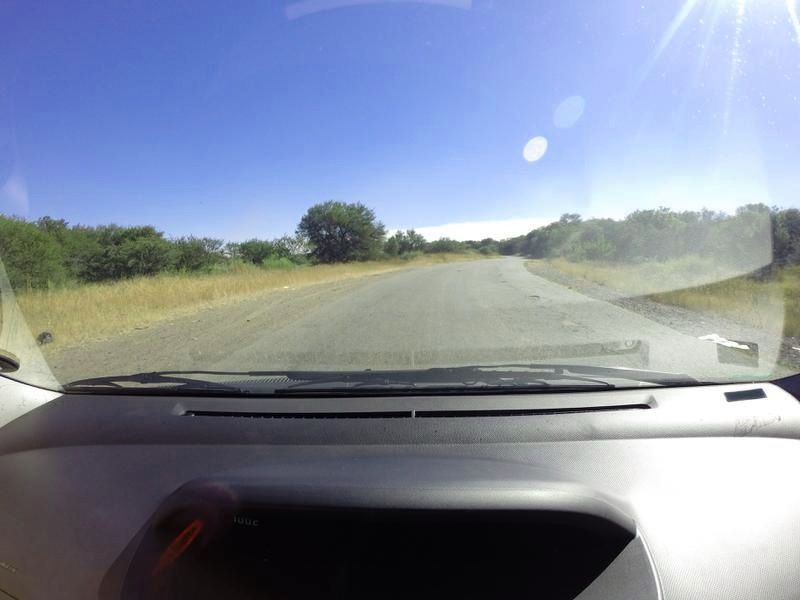pothole: (521, 290, 546, 303)
